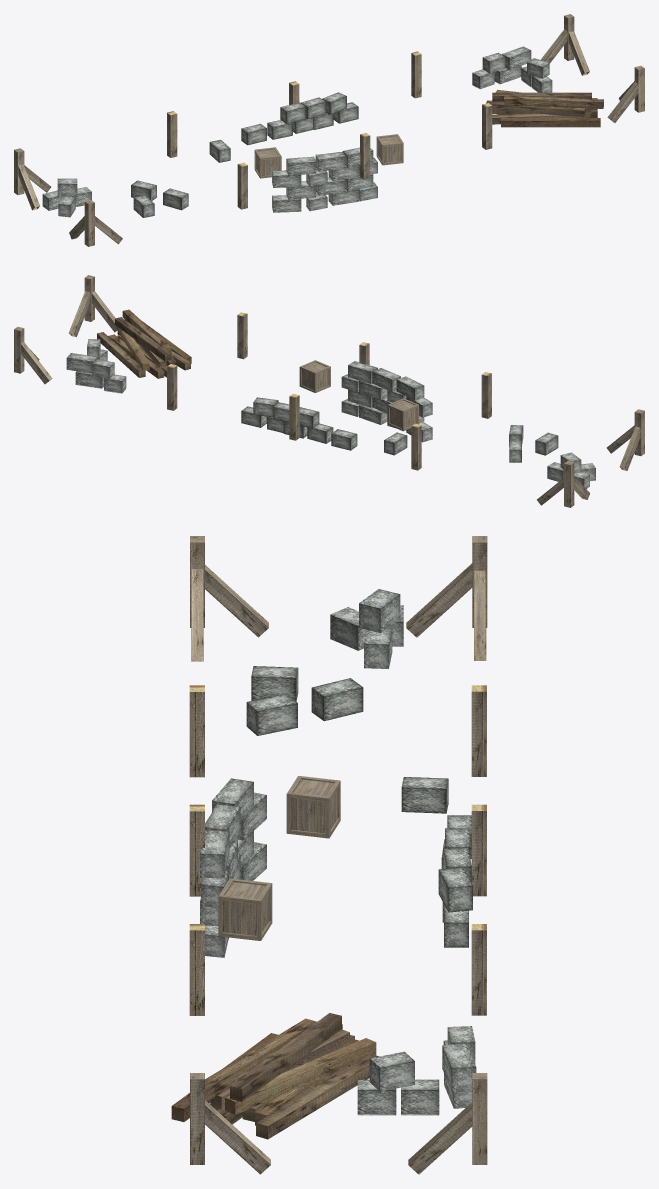
The model's file is fndn_9x2.glb.
3 views of the same model, one above another, from view 1: azimuth 30°, elevation 25°; view 2: azimuth 150°, elevation 25°; view 3: azimuth 270°, elevation 25° (orthographic). The views are drawn at different scales.
Parts seen in each view (by area): view 1: fndn_9x2_part19, fndn_9x2_part17, fndn_9x2_part18, fndn_9x2_part29, fndn_9x2_part1, fndn_9x2_part2, fndn_9x2_part3, fndn_9x2_part4, fndn_9x2_part11, fndn_9x2_part12, fndn_9x2_part7, fndn_9x2_part8 (+13 smaller); view 2: fndn_9x2_part19, fndn_9x2_part17, fndn_9x2_part18, fndn_9x2_part4, fndn_9x2_part3, fndn_9x2_part2, fndn_9x2_part1, fndn_9x2_part29, fndn_9x2_part11, fndn_9x2_part12, fndn_9x2_part6, fndn_9x2_part7 (+10 smaller); view 3: fndn_9x2_part17, fndn_9x2_part19, fndn_9x2_part18, fndn_9x2_part29, fndn_9x2_part2, fndn_9x2_part3, fndn_9x2_part11, fndn_9x2_part12, fndn_9x2_part1, fndn_9x2_part4, fndn_9x2_part16, fndn_9x2_part15 (+10 smaller).
Boxes of the visible parts, bbox=[...] form: fndn_9x2_part19: bbox=[272, 147, 377, 212]; fndn_9x2_part17: bbox=[486, 89, 603, 127]; fndn_9x2_part18: bbox=[472, 46, 552, 92]; fndn_9x2_part29: bbox=[42, 178, 91, 217]; fndn_9x2_part1: bbox=[540, 14, 589, 75]; fndn_9x2_part2: bbox=[14, 148, 51, 210]; fndn_9x2_part3: bbox=[69, 200, 122, 246]; fndn_9x2_part4: bbox=[607, 66, 644, 122]; fndn_9x2_part11: bbox=[376, 134, 403, 165]; fndn_9x2_part12: bbox=[254, 147, 281, 178]; fndn_9x2_part7: bbox=[411, 51, 421, 98]; fndn_9x2_part8: bbox=[237, 162, 247, 209]; fndn_9x2_part19: bbox=[341, 361, 432, 442]; fndn_9x2_part17: bbox=[97, 309, 191, 378]; fndn_9x2_part18: bbox=[66, 339, 126, 393]; fndn_9x2_part4: bbox=[69, 275, 116, 336]; fndn_9x2_part3: bbox=[606, 409, 644, 470]; fndn_9x2_part2: bbox=[537, 461, 589, 507]; fndn_9x2_part1: bbox=[14, 327, 52, 384]; fndn_9x2_part29: bbox=[547, 452, 595, 488]; fndn_9x2_part11: bbox=[299, 360, 330, 392]; fndn_9x2_part12: bbox=[387, 398, 418, 431]; fndn_9x2_part6: bbox=[289, 393, 299, 440]; fndn_9x2_part7: bbox=[167, 364, 177, 410]; fndn_9x2_part17: bbox=[171, 1013, 379, 1139]; fndn_9x2_part19: bbox=[200, 778, 266, 957]; fndn_9x2_part18: bbox=[357, 1026, 476, 1115]; fndn_9x2_part29: bbox=[330, 589, 403, 668]; fndn_9x2_part2: bbox=[406, 536, 487, 660]; fndn_9x2_part3: bbox=[190, 536, 268, 661]; fndn_9x2_part11: bbox=[218, 878, 272, 940]; fndn_9x2_part12: bbox=[286, 776, 340, 838]; fndn_9x2_part1: bbox=[408, 1073, 487, 1174]; fndn_9x2_part4: bbox=[190, 1073, 270, 1174]; fndn_9x2_part16: bbox=[311, 678, 363, 721]; fndn_9x2_part15: bbox=[246, 694, 297, 735].
Size of the model in its own units: 7.65 by 0.971 by 1.88.
Materials: 3 (3 with a texture image).
